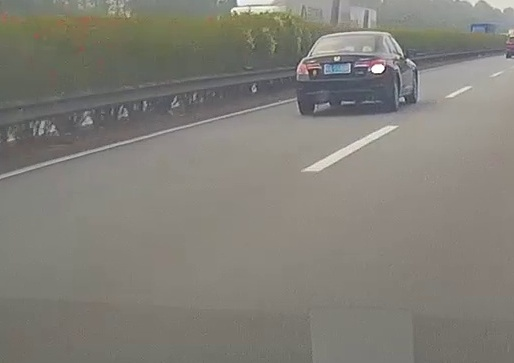L_light: (297, 62, 322, 75)
R_light: (354, 59, 387, 74)
T_light: (339, 34, 354, 38)
day-right: (296, 31, 390, 115)
